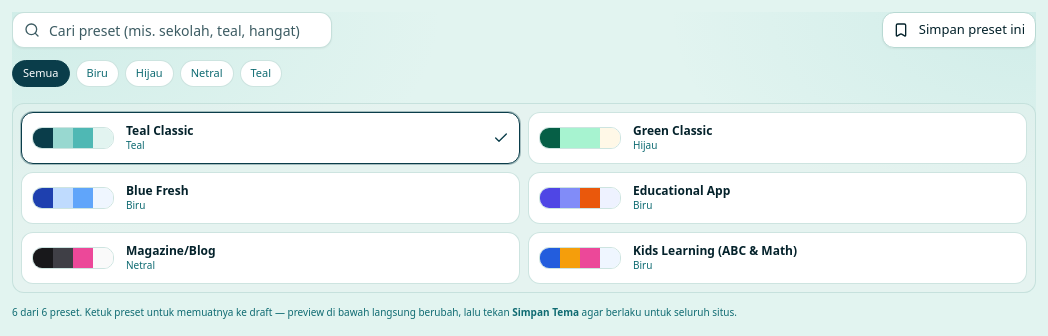
Test: ThemePresetGallery › mencari preset berdasarkan nama
Type "educational" into the field named "Cari preset tema" at (172, 30), box [12, 12, 332, 48]
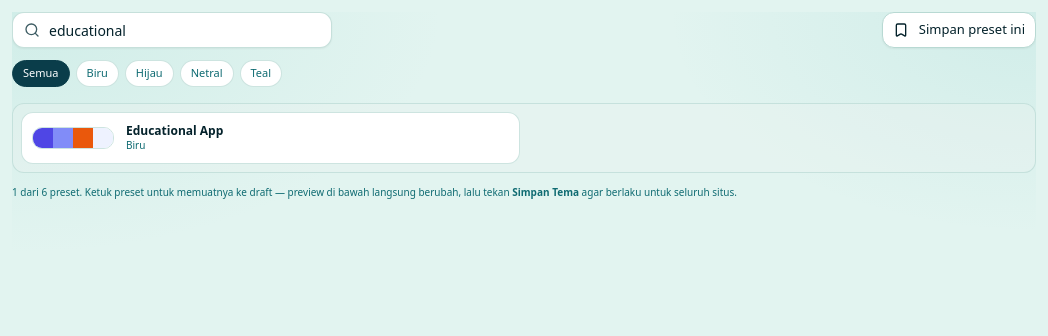
Expected: the element that starts with "dari" shows "1 dari 6 preset.", [12, 184, 737, 198]
